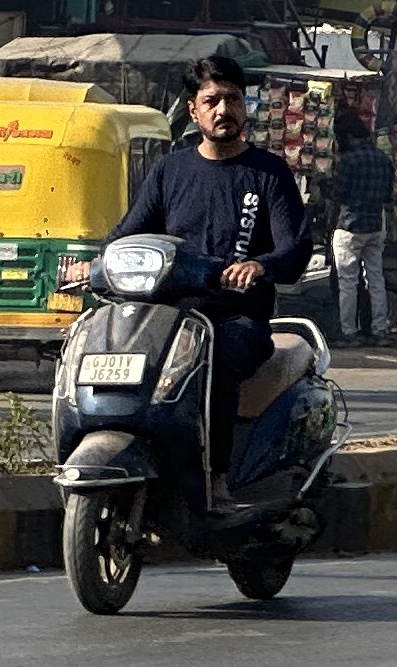BikeWithRider: (41, 45, 359, 621)
NoHelmet: (175, 49, 256, 151)
